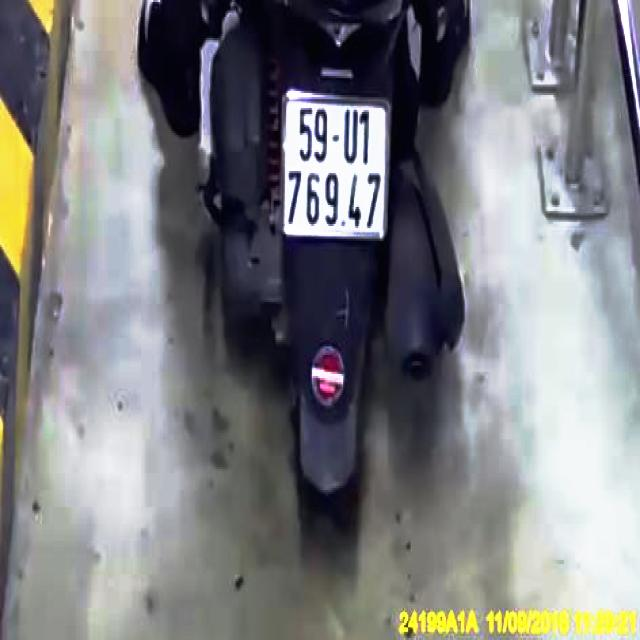license_plate: (283, 98, 391, 239)
